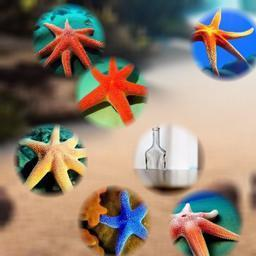not an animal: (142, 124, 170, 174)
